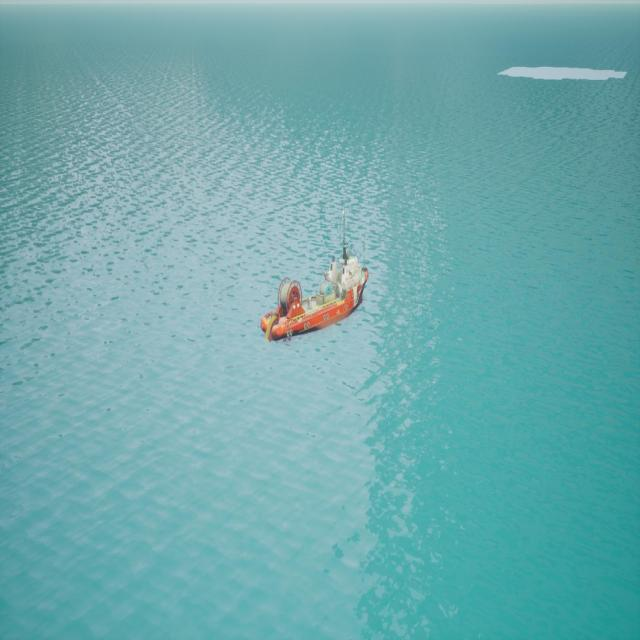tug boat: (265, 258, 369, 344)
